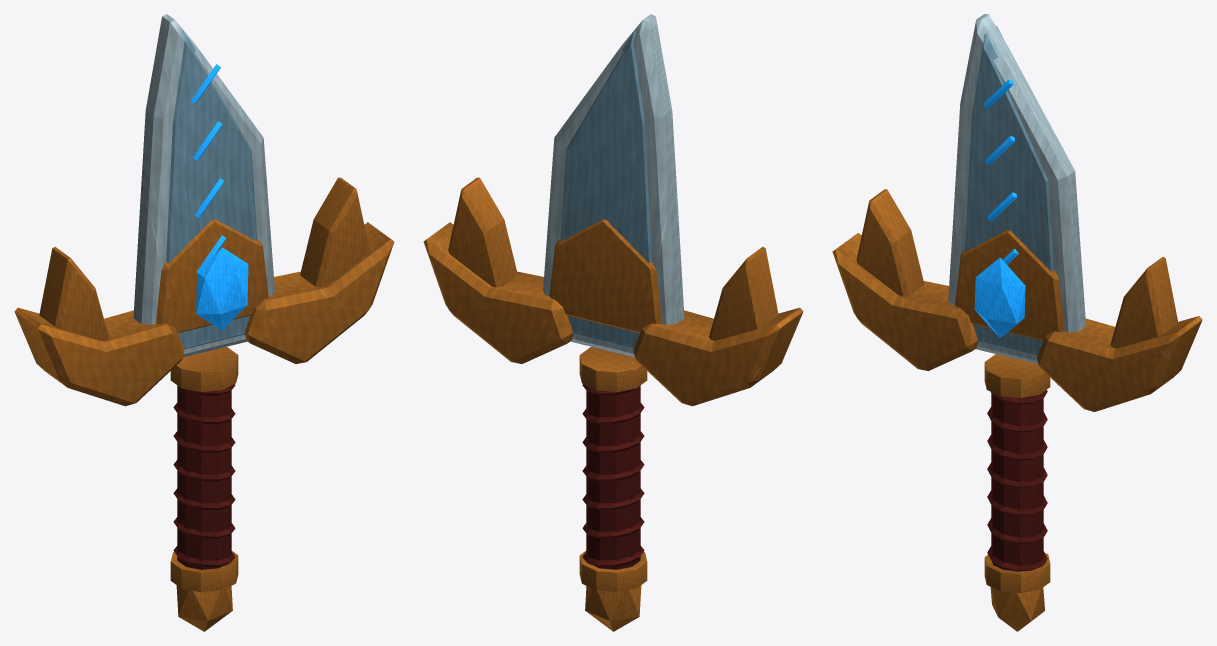
Rendered from dagger-t3.glb.
3 renders of one model, left to right at view 1: azimuth 30°, elevation 25°; view 2: azimuth 150°, elevation 25°; view 3: azimuth 330°, elevation 25°, orthographic. The views are drawn at different scales.
Visible parts, largest first — view 1: Sculpted blade core, Cutting edge, Forged guard, Forged guard.001, Leather grip, Blade collar, Guard fluke.001, Guard fluke, Set jewel, Grip ferrule.001, Faceted pommel, Grip ferrule; view 2: Sculpted blade core, Cutting edge, Forged guard, Forged guard.001, Blade collar, Leather grip, Guard fluke.001, Guard fluke, Grip ferrule.001, Faceted pommel, Grip ferrule; view 3: Sculpted blade core, Cutting edge, Forged guard.001, Forged guard, Leather grip, Blade collar, Guard fluke, Guard fluke.001, Set jewel, Grip ferrule.001, Faceted pommel, Grip ferrule.
Boxes of the visible parts, x1,y1,x2,y2 form: Sculpted blade core: (166, 31, 257, 348); Cutting edge: (133, 14, 274, 357); Forged guard: (14, 307, 184, 406); Forged guard.001: (244, 222, 394, 363); Leather grip: (177, 385, 231, 569); Blade collar: (155, 219, 268, 332); Guard fluke.001: (300, 177, 369, 287); Guard fluke: (39, 246, 108, 340); Set jewel: (196, 247, 248, 330); Grip ferrule.001: (170, 347, 238, 391); Faceted pommel: (176, 585, 232, 631); Grip ferrule: (170, 551, 238, 592); Sculpted blade core: (560, 31, 651, 348); Cutting edge: (543, 14, 684, 357); Forged guard: (633, 307, 803, 406); Forged guard.001: (423, 222, 573, 363); Blade collar: (549, 219, 662, 332); Leather grip: (586, 385, 640, 569); Guard fluke.001: (448, 177, 517, 287); Guard fluke: (709, 246, 778, 340); Grip ferrule.001: (579, 347, 647, 391); Faceted pommel: (585, 585, 641, 631); Grip ferrule: (579, 551, 647, 592); Sculpted blade core: (965, 26, 1053, 356); Cutting edge: (948, 14, 1085, 364); Forged guard.001: (1037, 316, 1202, 411); Forged guard: (832, 233, 978, 370); Leather grip: (991, 393, 1043, 570); Blade collar: (955, 230, 1064, 340); Guard fluke: (856, 189, 924, 296); Guard fluke.001: (1110, 257, 1178, 348); Set jewel: (974, 257, 1025, 338); Grip ferrule.001: (984, 354, 1050, 397); Faceted pommel: (990, 587, 1044, 631); Grip ferrule: (984, 553, 1050, 593).
Size of the model in its own units: 0.2396 by 0.4 by 0.0484.
Materials: 1 (1 with a texture image).
